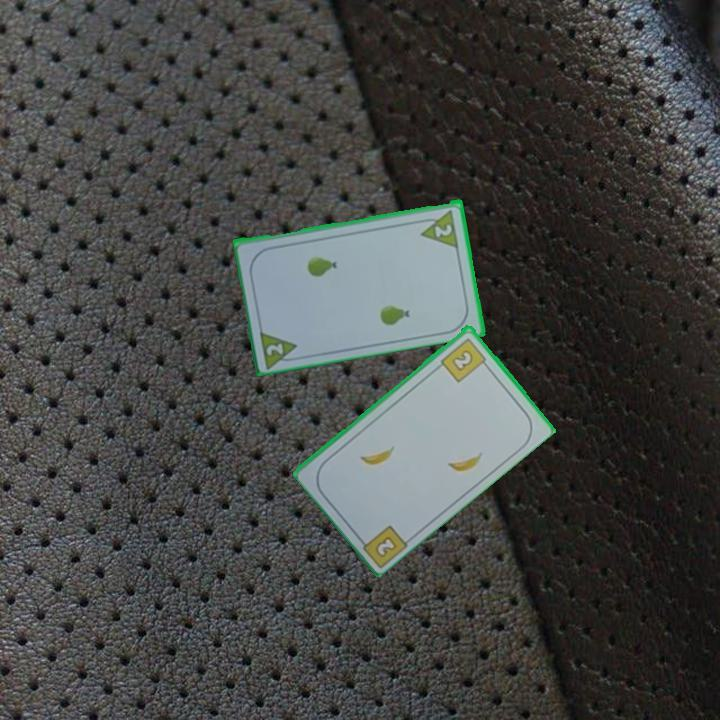2b: (437, 334, 491, 385), (372, 532, 400, 560)
2p: (262, 339, 287, 358), (431, 220, 455, 239)
